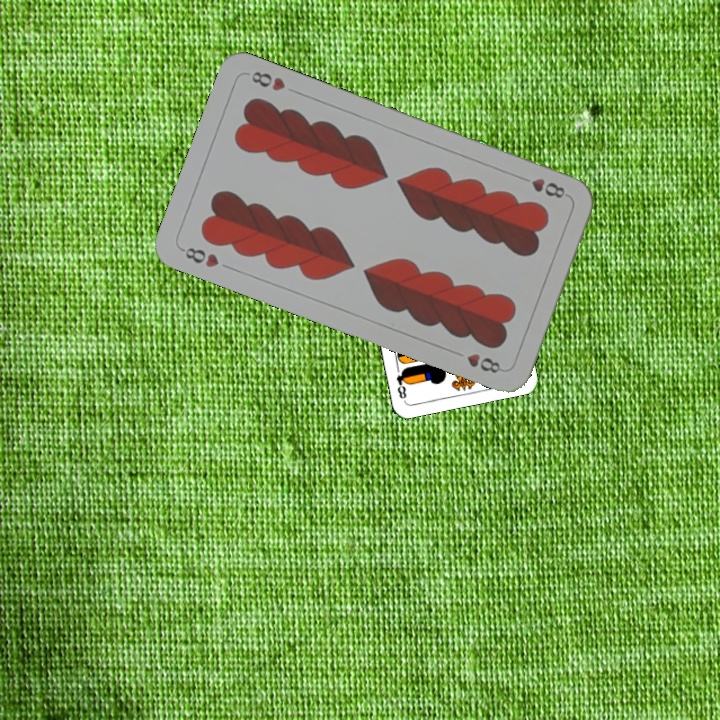H8: (514, 172, 570, 201), (177, 243, 222, 270)
